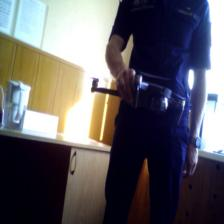drone: (86, 65, 195, 130)
